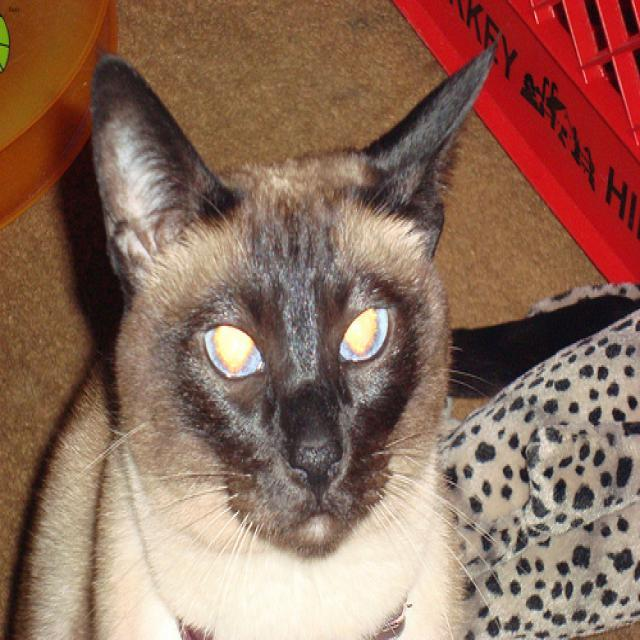Siamese: (89, 29, 500, 556)
